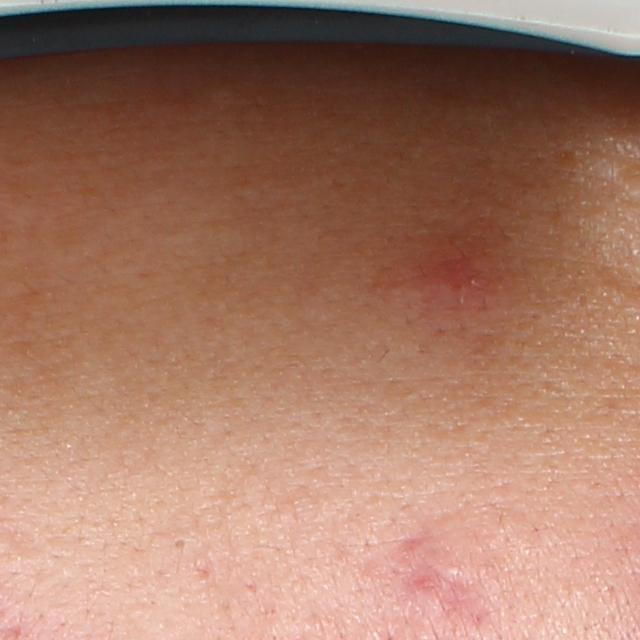comedo: (172, 535, 192, 552)
